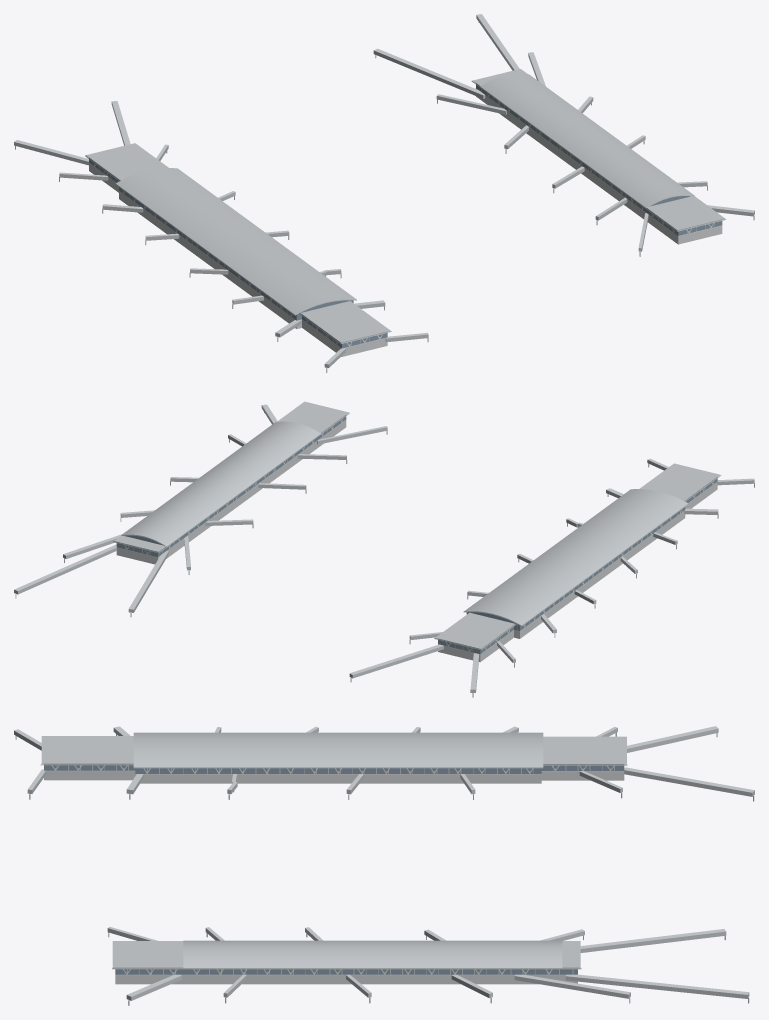
The model's file is london-heathrow-terminal-5-satellites.glb.
3 views of the same model, one above another, from view 1: azimuth 30°, elevation 25°; view 2: azimuth 150°, elevation 25°; view 3: azimuth 270°, elevation 25° (orthographic). The views are drawn at different scales.
Visible parts, largest first — view 1: Heathrow Terminal 5B and 5C; view 2: Heathrow Terminal 5B and 5C; view 3: Heathrow Terminal 5B and 5C.
Boxes of the visible parts, bbox=[...] form: Heathrow Terminal 5B and 5C: bbox=[14, 14, 754, 372]; Heathrow Terminal 5B and 5C: bbox=[14, 401, 754, 697]; Heathrow Terminal 5B and 5C: bbox=[14, 726, 754, 1005].
Bounding box in the file's own units: 478 × 19.5 × 553.
